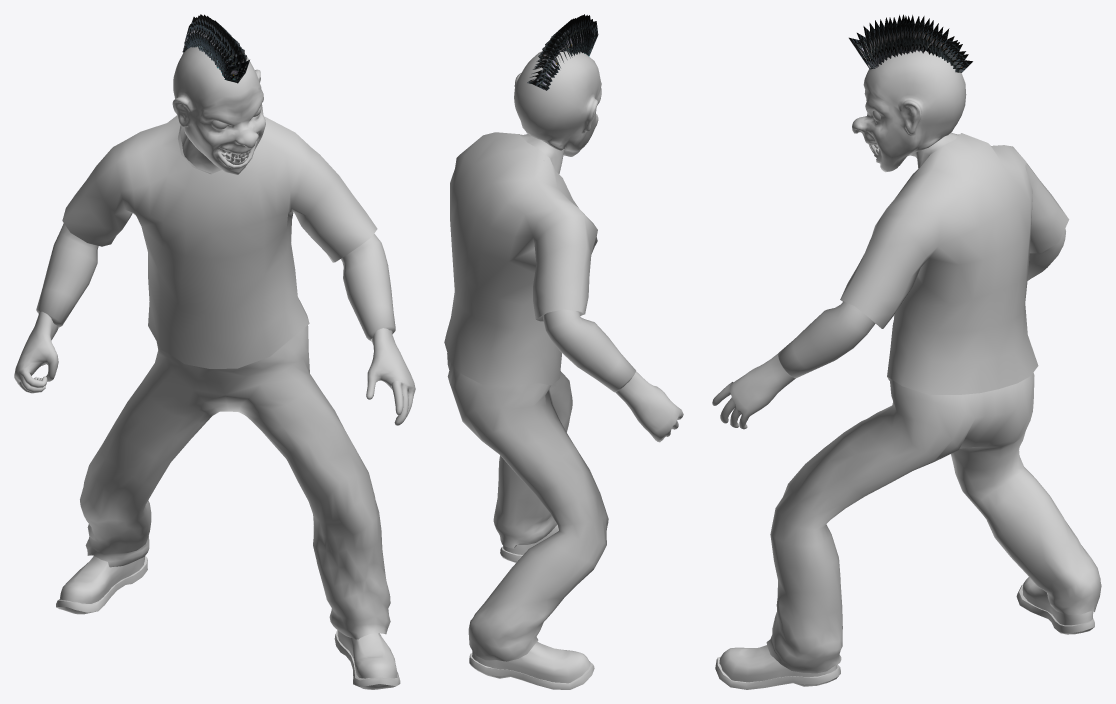
Rendered from Hit (45).obj.
3 views of the same model, side by side, from view 1: azimuth 30°, elevation 25°; view 2: azimuth 150°, elevation 25°; view 3: azimuth 270°, elevation 25° (orthographic). The views are drawn at different scales.
Parts seen in each view (by area): view 1: shirt, pants, head, forearm_band_002, forearm_band_01, boots, boots001, hand_left, Hair, hand_right, neck; view 2: shirt, pants, head, forearm_band_01, boots, hand_right, Hair, neck, boots001; view 3: pants, shirt, head, forearm_band_002, Hair, boots001, hand_left, boots, forearm_band_01.
Part boxes in pixels (x1,y1,x2,y2): shirt: (62,115,377,368); pants: (80,325,390,639); head: (172,46,265,174); forearm_band_002: (341,234,395,341); forearm_band_01: (36,223,98,327); boots: (56,555,147,614); boots001: (334,630,400,689); hand_left: (366,328,415,425); Hair: (182,14,249,83); hand_right: (14,311,58,393); neck: (180,126,221,173); shirt: (444,132,597,386); pants: (447,353,608,661); head: (514,51,601,156); forearm_band_01: (543,309,635,392); boots: (469,642,594,689); hand_right: (615,371,683,442); Hair: (527,14,598,90); neck: (520,134,565,173); boots001: (500,525,558,562); pants: (766,372,1101,673); shirt: (840,133,1069,394); head: (852,50,966,172); forearm_band_002: (778,301,875,378); Hair: (849,14,972,72); boots001: (715,645,840,689); hand_left: (712,353,795,429); boots: (1016,577,1094,634); forearm_band_01: (1027,228,1065,280).
Size of the model in its own units: 87.53 by 176 by 98.91.
